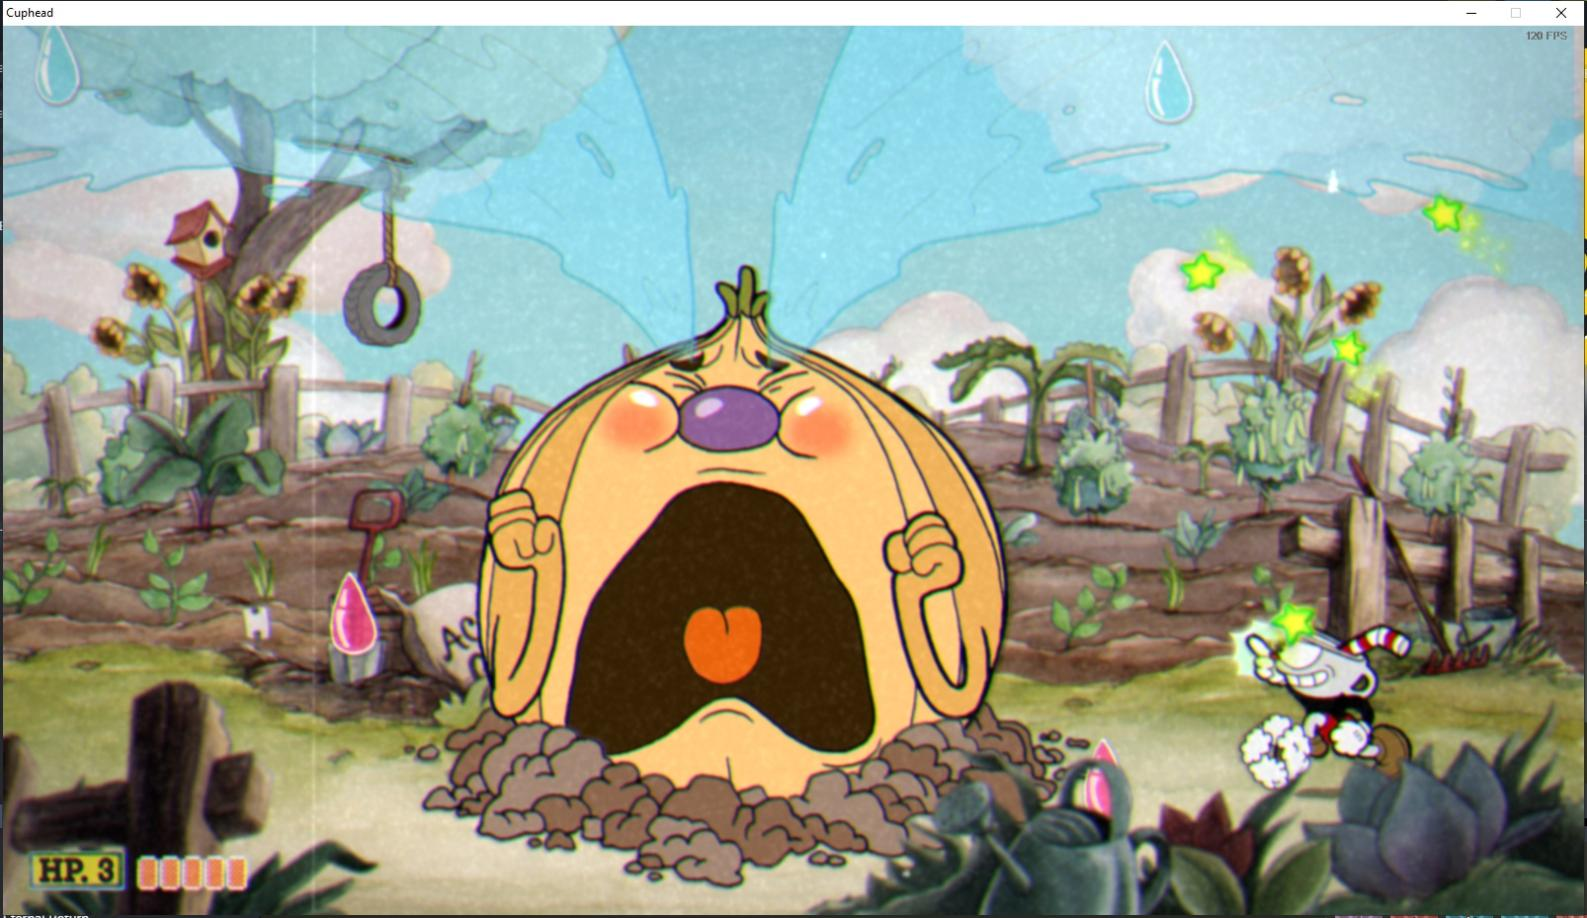hp3: (91, 852, 124, 889)
onion_boss: (469, 261, 1015, 827)
pink_rain: (1071, 734, 1135, 829), (325, 566, 382, 666)
player: (1231, 604, 1422, 805)
rain: (1135, 36, 1207, 132), (25, 24, 96, 119)
